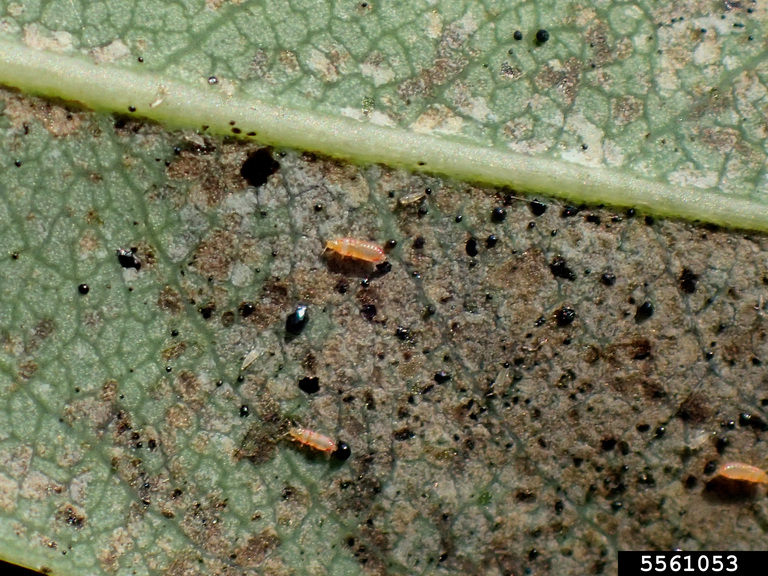Thrips: (276, 419, 340, 468), (698, 453, 768, 493), (321, 234, 393, 272)
